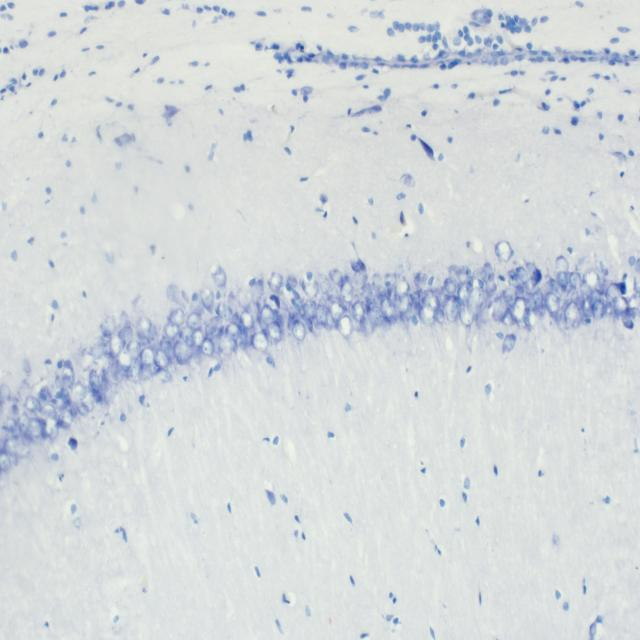neuron: (4, 435, 32, 460), (380, 297, 398, 326), (564, 301, 582, 329), (468, 286, 484, 316), (173, 339, 192, 364), (512, 298, 529, 324), (336, 315, 354, 339), (494, 240, 512, 264), (42, 415, 59, 440), (492, 295, 507, 323), (418, 304, 437, 326), (328, 301, 346, 324), (582, 268, 600, 291), (302, 276, 319, 300), (38, 402, 58, 422), (80, 386, 96, 411), (70, 381, 88, 403), (109, 335, 126, 358), (218, 332, 233, 358), (29, 417, 45, 441), (445, 296, 459, 323), (4, 439, 18, 465), (348, 293, 362, 319), (137, 315, 152, 339), (251, 332, 269, 352), (606, 282, 621, 306), (267, 270, 283, 292), (612, 295, 628, 317), (212, 266, 227, 289), (57, 408, 73, 429), (179, 326, 195, 347), (200, 287, 214, 311), (545, 290, 559, 314), (18, 380, 33, 402), (168, 308, 186, 326), (128, 359, 142, 382), (292, 319, 306, 342), (217, 302, 233, 322), (236, 288, 252, 308), (301, 299, 317, 319), (328, 268, 344, 288), (458, 306, 474, 326), (117, 350, 132, 371), (267, 321, 282, 342), (88, 368, 100, 394), (341, 280, 354, 304), (260, 304, 274, 326), (315, 304, 329, 326), (351, 301, 365, 323), (423, 294, 440, 312), (138, 363, 154, 382), (394, 279, 410, 298), (101, 316, 116, 336), (154, 348, 169, 368), (225, 322, 240, 342), (353, 266, 368, 286), (457, 265, 472, 285), (251, 280, 264, 303), (126, 340, 140, 361), (366, 307, 380, 328), (371, 305, 385, 326), (25, 395, 41, 413), (62, 366, 75, 388), (187, 311, 202, 330), (140, 347, 154, 367), (167, 284, 181, 304), (240, 310, 254, 330), (503, 287, 517, 307), (0, 450, 12, 473), (628, 291, 640, 314), (201, 337, 214, 358), (556, 255, 569, 276), (156, 368, 173, 384), (164, 322, 180, 339), (526, 261, 540, 280), (18, 412, 30, 434), (482, 263, 494, 285), (593, 299, 605, 321), (191, 328, 204, 348), (556, 271, 569, 291), (532, 288, 543, 311), (90, 342, 104, 360), (118, 326, 132, 344), (568, 271, 582, 289), (591, 287, 601, 312), (360, 315, 371, 337), (458, 284, 470, 304), (2, 416, 16, 433), (570, 292, 583, 310), (319, 273, 330, 294), (556, 312, 568, 331), (443, 278, 457, 294), (448, 264, 462, 280), (60, 386, 71, 406), (302, 314, 314, 332), (502, 308, 514, 326), (433, 308, 445, 325), (516, 267, 528, 284), (0, 384, 11, 402), (583, 296, 592, 318), (473, 268, 487, 282), (548, 278, 560, 294), (372, 272, 382, 291), (159, 339, 171, 354), (205, 323, 217, 338), (362, 284, 372, 302), (212, 333, 220, 355), (486, 282, 497, 298), (210, 315, 223, 328), (366, 299, 378, 313), (438, 292, 448, 308), (287, 275, 297, 289), (378, 286, 387, 298)
